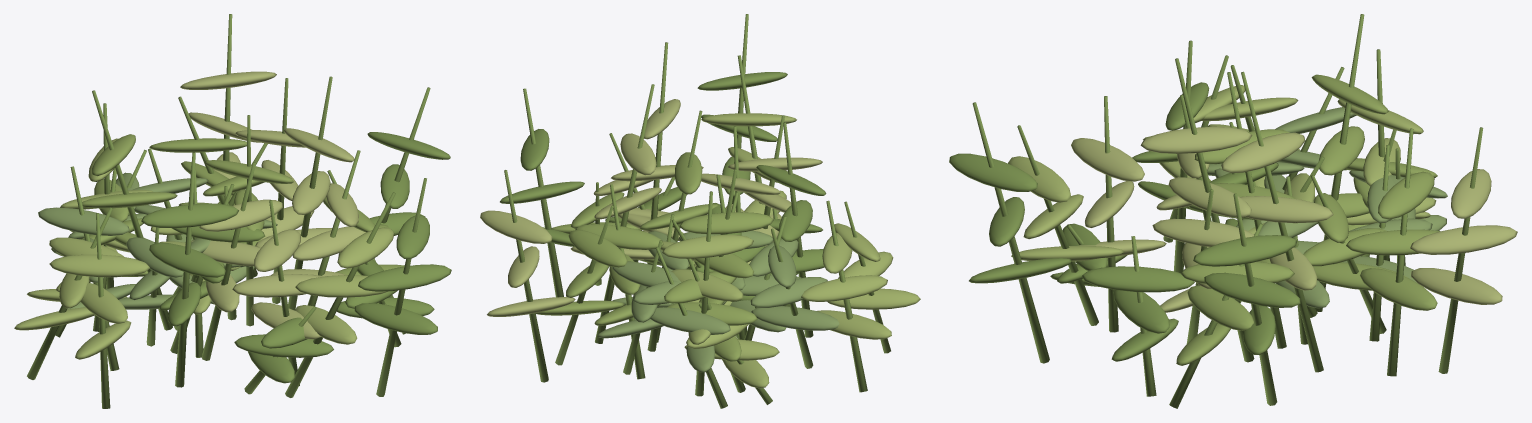
File: herb_patch.glb
3 renders of one model, left to right at view 1: azimuth 30°, elevation 25°; view 2: azimuth 150°, elevation 25°; view 3: azimuth 270°, elevation 25°, orthographic. The views are drawn at different scales.
Parts seen in each view (by area): view 1: herb_patch_leaf0, herb_patch_leaf3, herb_patch_leaf2, herb_patch_leaf1, herb_patch_leaf4; view 2: herb_patch_leaf0, herb_patch_leaf2, herb_patch_leaf1, herb_patch_leaf4, herb_patch_leaf3; view 3: herb_patch_leaf0, herb_patch_leaf3, herb_patch_leaf1, herb_patch_leaf2, herb_patch_leaf4.
Part boxes in pixels (box(x1,y1,x2,y2)): herb_patch_leaf0: box(27, 14, 451, 408); herb_patch_leaf3: box(180, 71, 365, 339); herb_patch_leaf2: box(14, 138, 394, 359); herb_patch_leaf1: box(81, 134, 404, 276); herb_patch_leaf4: box(38, 172, 277, 309); herb_patch_leaf0: box(500, 14, 890, 408); herb_patch_leaf2: box(660, 113, 920, 388); herb_patch_leaf1: box(535, 152, 773, 361); herb_patch_leaf4: box(597, 230, 839, 372); herb_patch_leaf3: box(480, 99, 822, 316); herb_patch_leaf0: box(949, 14, 1483, 408); herb_patch_leaf3: box(1071, 126, 1517, 312); herb_patch_leaf1: box(1176, 74, 1439, 365); herb_patch_leaf2: box(1008, 85, 1436, 261); herb_patch_leaf4: box(1207, 107, 1447, 308).
Bounding box in the file's own units: 0.8344 × 0.5373 × 0.8934.
